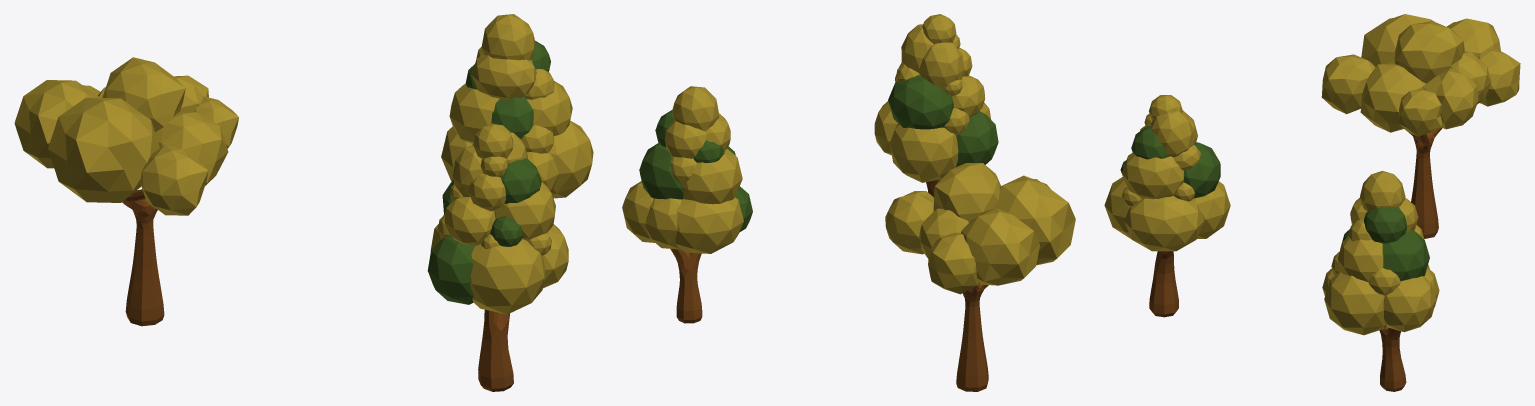
File: arvores.fbx
3 views of the same model, side by side, from view 1: azimuth 30°, elevation 25°; view 2: azimuth 150°, elevation 25°; view 3: azimuth 270°, elevation 25° (orthographic). The views are drawn at different scales.
Parts seen in each view (by area): view 1: Esfera icosaédrica.003, Plano.003, Esfera icosaédrica.005; view 2: Esfera icosaédrica.003, Esfera icosaédrica.005, Plano.003; view 3: Esfera icosaédrica.003, Esfera icosaédrica.005, Plano.003.
Part boxes in pixels (box(x1,y1,x2,y2)): Esfera icosaédrica.003: box(14, 57, 238, 326); Plano.003: box(427, 123, 568, 391); Esfera icosaédrica.005: box(441, 14, 593, 198); Esfera icosaédrica.003: box(885, 163, 1075, 391); Esfera icosaédrica.005: box(622, 86, 752, 323); Plano.003: box(874, 14, 998, 197); Esfera icosaédrica.003: box(1321, 14, 1520, 238); Esfera icosaédrica.005: box(1322, 171, 1439, 391); Plano.003: box(1104, 95, 1230, 317).
Size of the model in its own units: 1671 by 904 by 1460.
2 materials, 2 textured.
